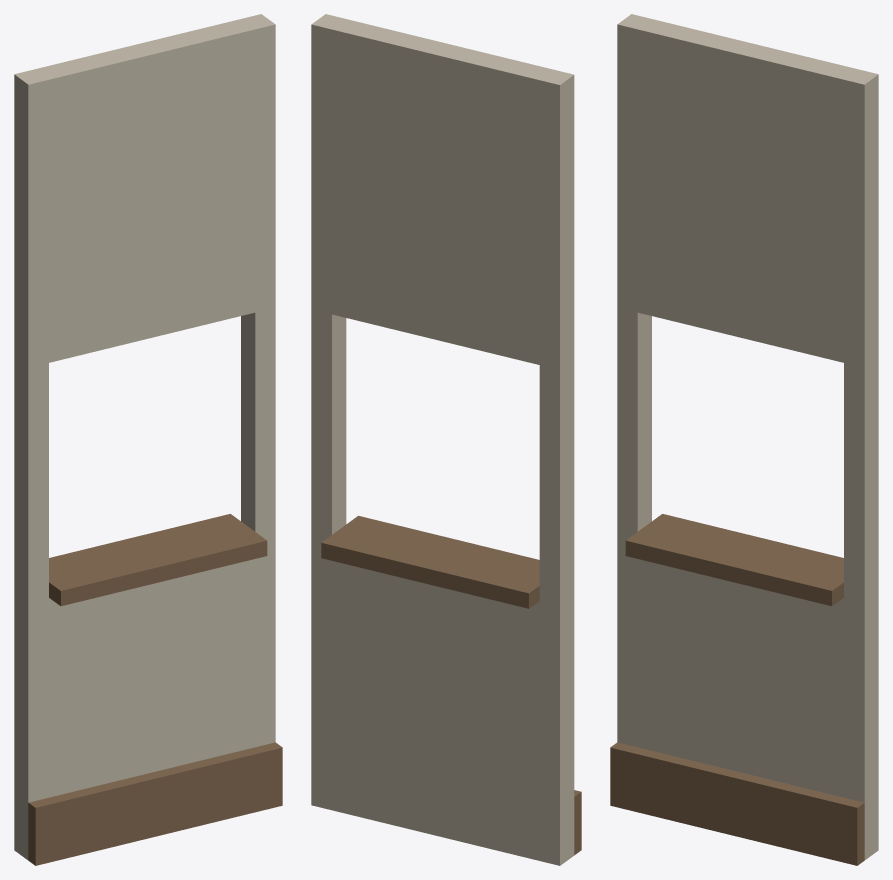
Rendered from Mesh_WallBaseboard_A2.fbx.
3 renders of one model, left to right at view 1: azimuth 30°, elevation 25°; view 2: azimuth 150°, elevation 25°; view 3: azimuth 330°, elevation 25°, orthographic.
Parts seen in each view (by area): view 1: Mesh_WallBaseboard_A2; view 2: Mesh_WallBaseboard_A2; view 3: Mesh_WallBaseboard_A2.
Part boxes in pixels (x1,y1,x2,y2): Mesh_WallBaseboard_A2: (14, 14, 282, 865); Mesh_WallBaseboard_A2: (311, 14, 581, 865); Mesh_WallBaseboard_A2: (610, 14, 878, 865).
Bounding box in the file's own units: 1 × 3 × 0.2574.
